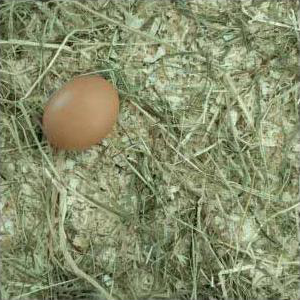egg: (43, 75, 120, 150)
